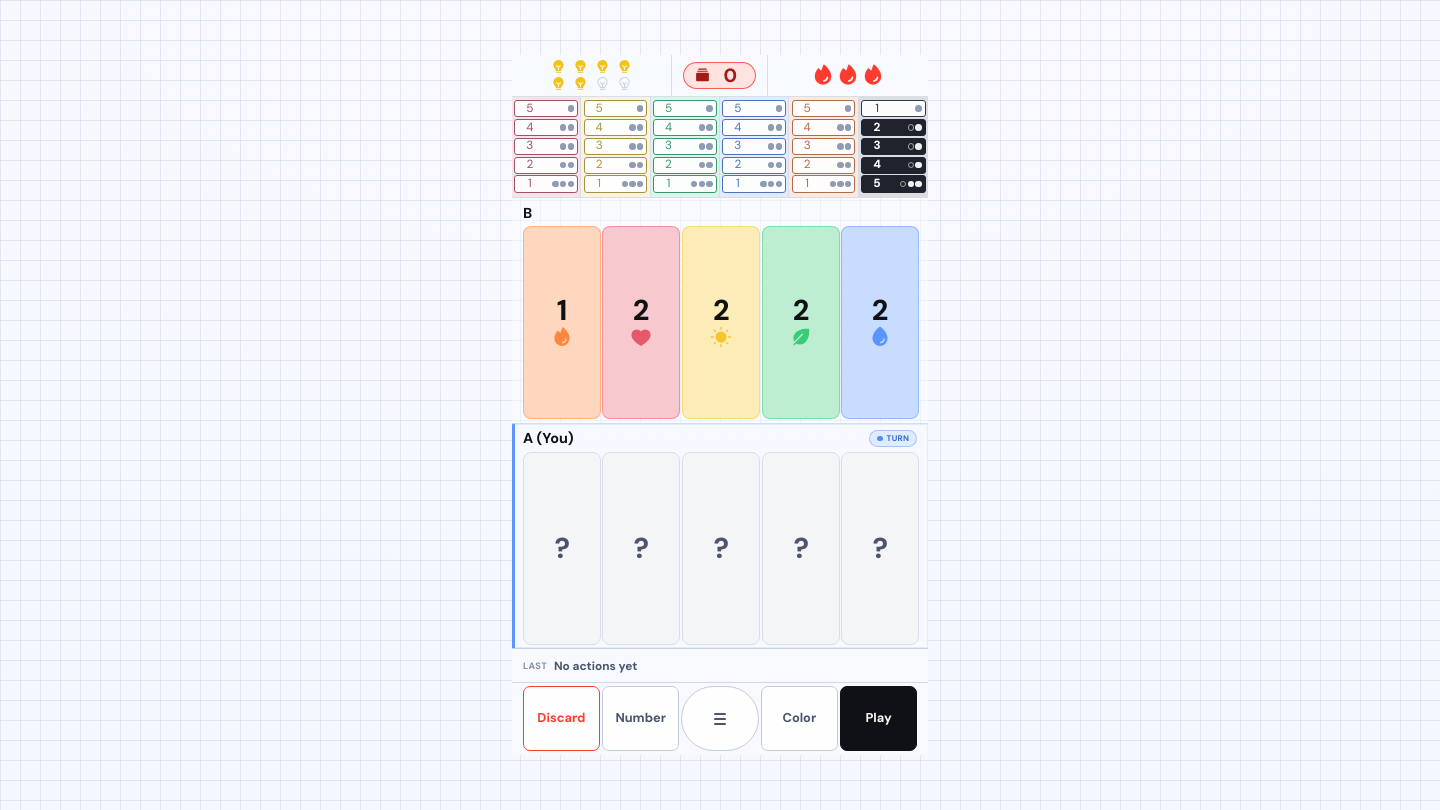
Scenario: App local debug wiring › black powder completion uses selected flamboyant bonus option
Step 1. Click the button with test id "actions-play" → (879, 719), box [840,686,917,751]
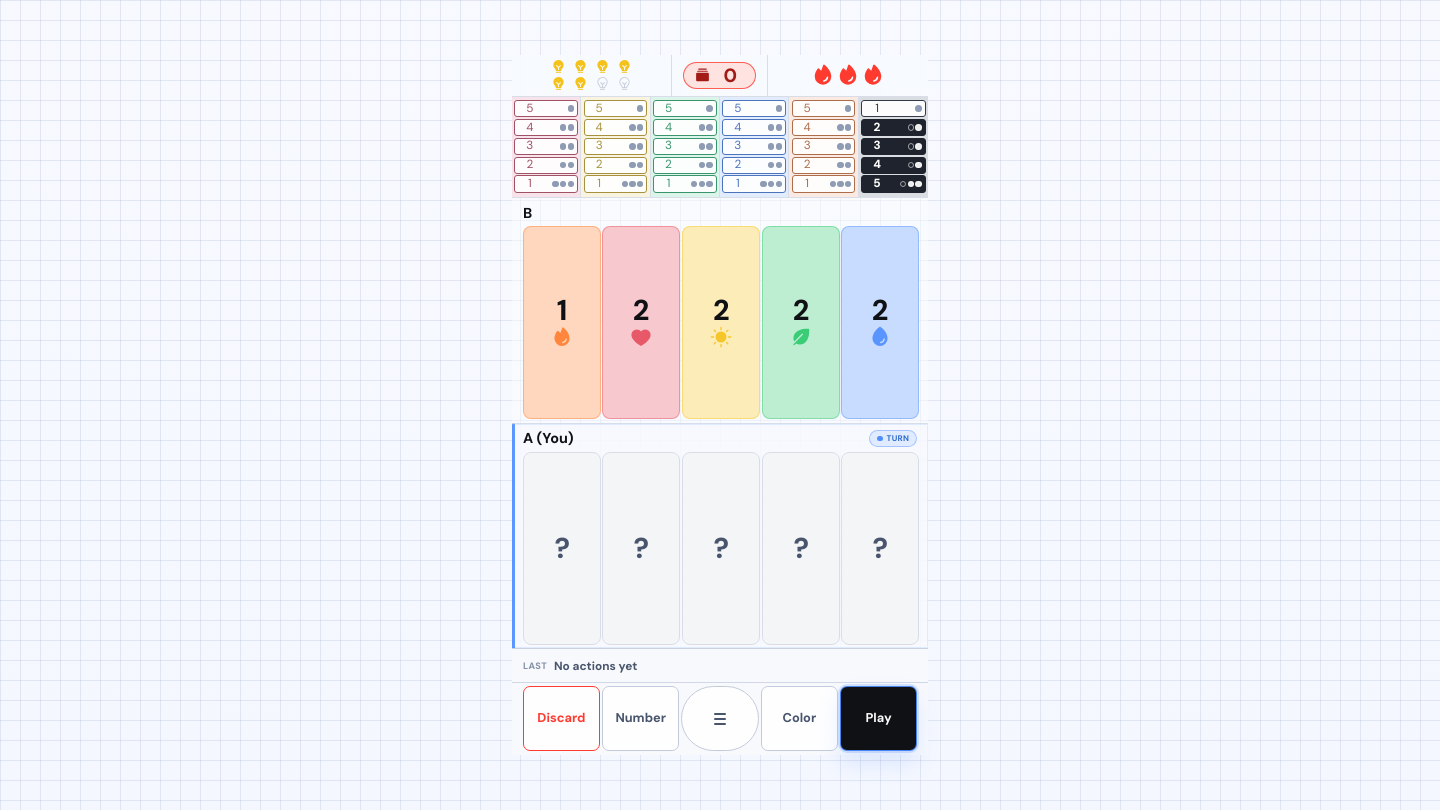
Step 2. Click the button with test id "card-p1-0" → (562, 548), box [523,452,601,644]
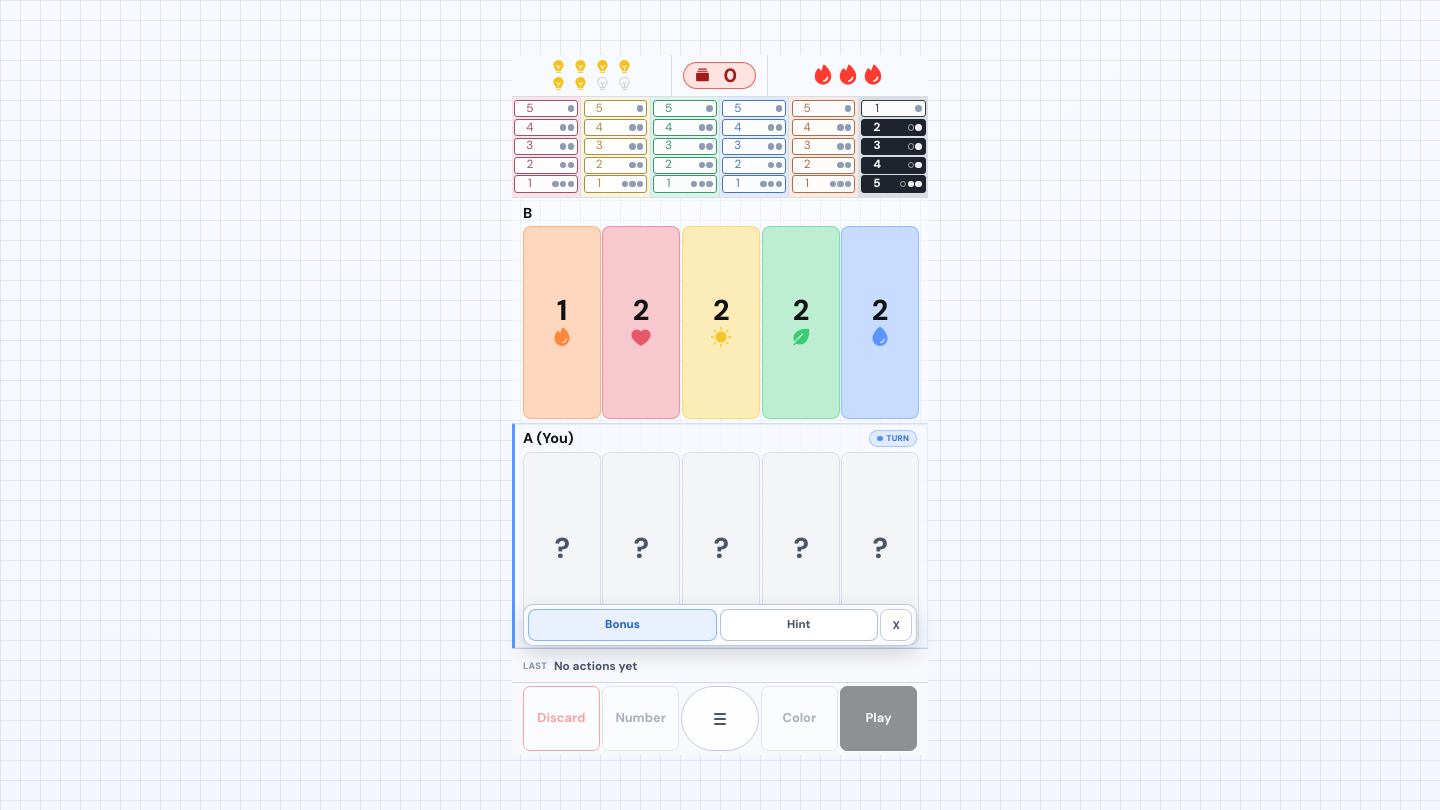
Expected: the element with test id "completion-bonus-picker" is shown, [523,604,917,646]
Step 3. Click the button with test id "completion-bonus-flamboyant" → (622, 625), box [528,609,717,641]
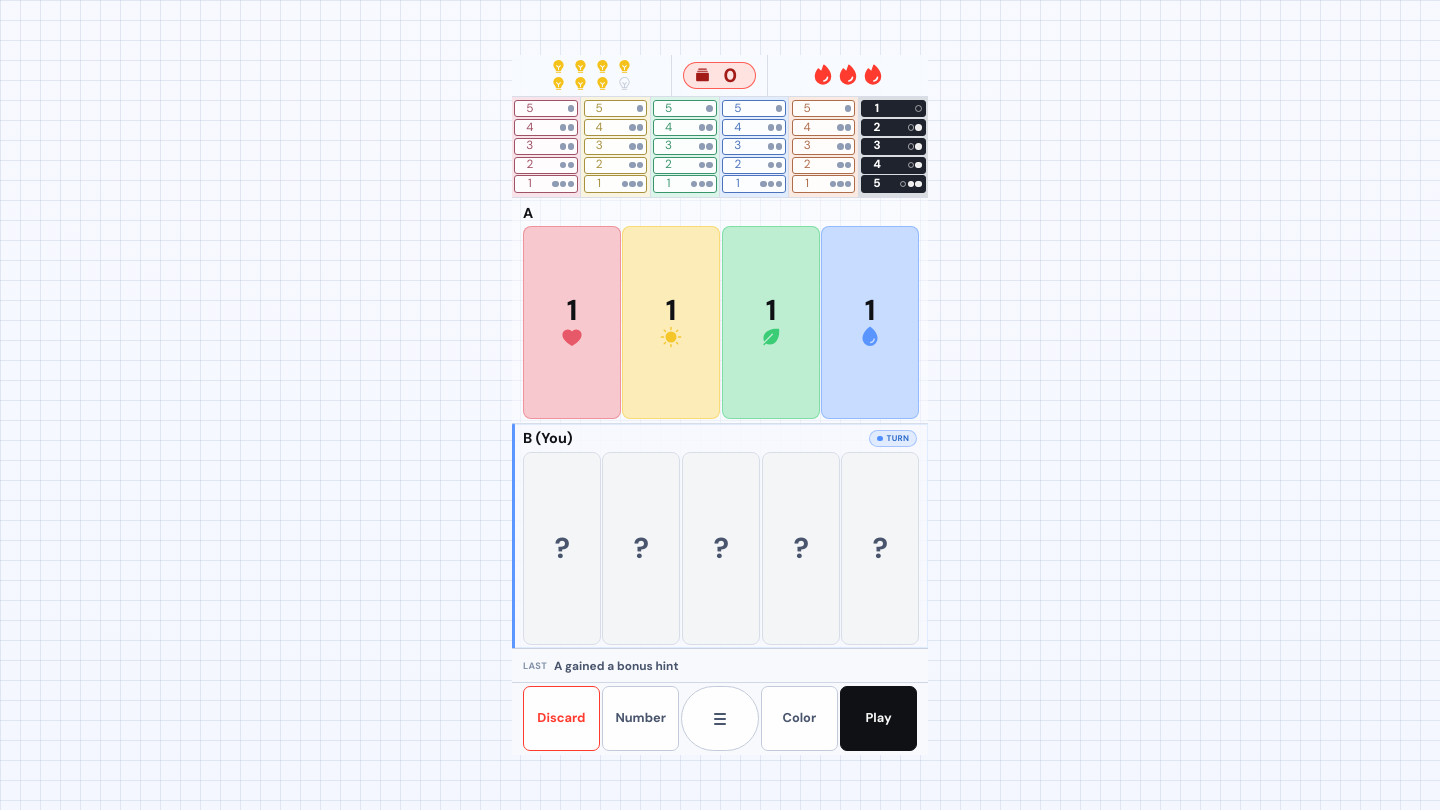
Expected: the element with test id "player-turn-p2" is shown, [869,430,917,447]
Expected: the element with test id "completion-bonus-picker" is gone
